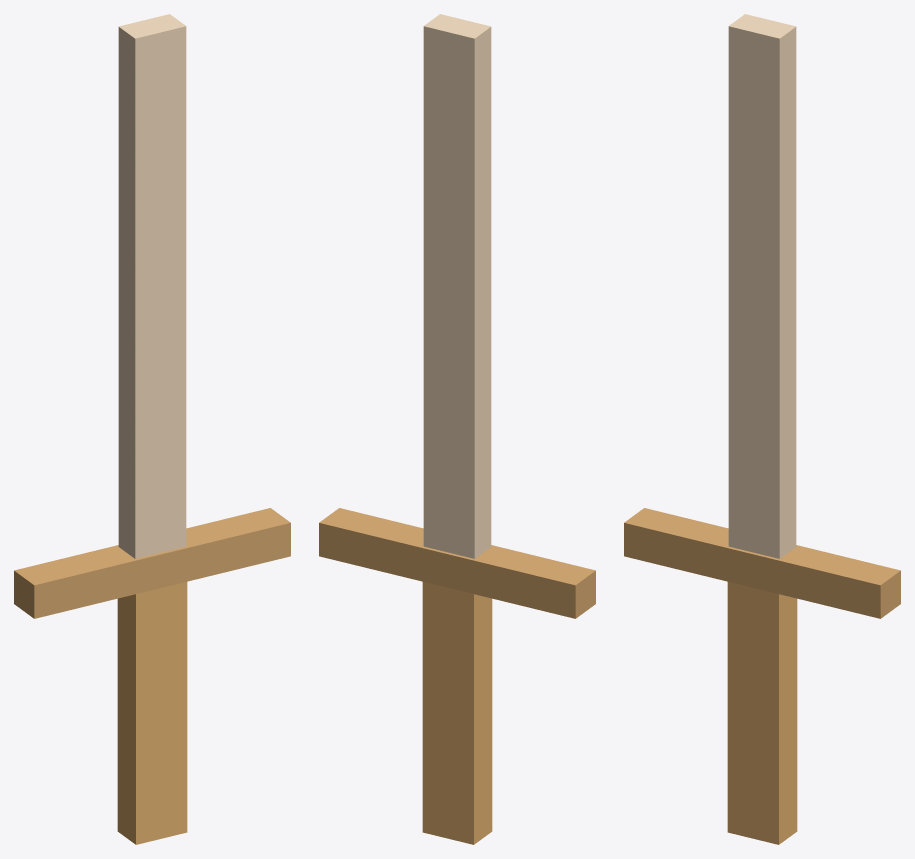
Rendered from practice_sword.obj.
3 renders of one model, left to right at view 1: azimuth 30°, elevation 25°; view 2: azimuth 150°, elevation 25°; view 3: azimuth 330°, elevation 25°, orthographic.
Parts seen in each view (by area): view 1: hoja, mango, base; view 2: hoja, mango, base; view 3: hoja, mango, base.
Boxes of the visible parts, bbox=[...] form: hoja: bbox=[118, 14, 186, 558]; mango: bbox=[117, 582, 187, 844]; base: bbox=[14, 508, 290, 618]; hoja: bbox=[423, 14, 491, 558]; mango: bbox=[422, 582, 492, 844]; base: bbox=[319, 508, 595, 618]; hoja: bbox=[728, 14, 796, 558]; mango: bbox=[727, 582, 797, 844]; base: bbox=[624, 508, 900, 618].
Bounding box in the file's own units: 0.25 × 0.75 × 0.0344.
Materials: 3 (3 with a texture image).
